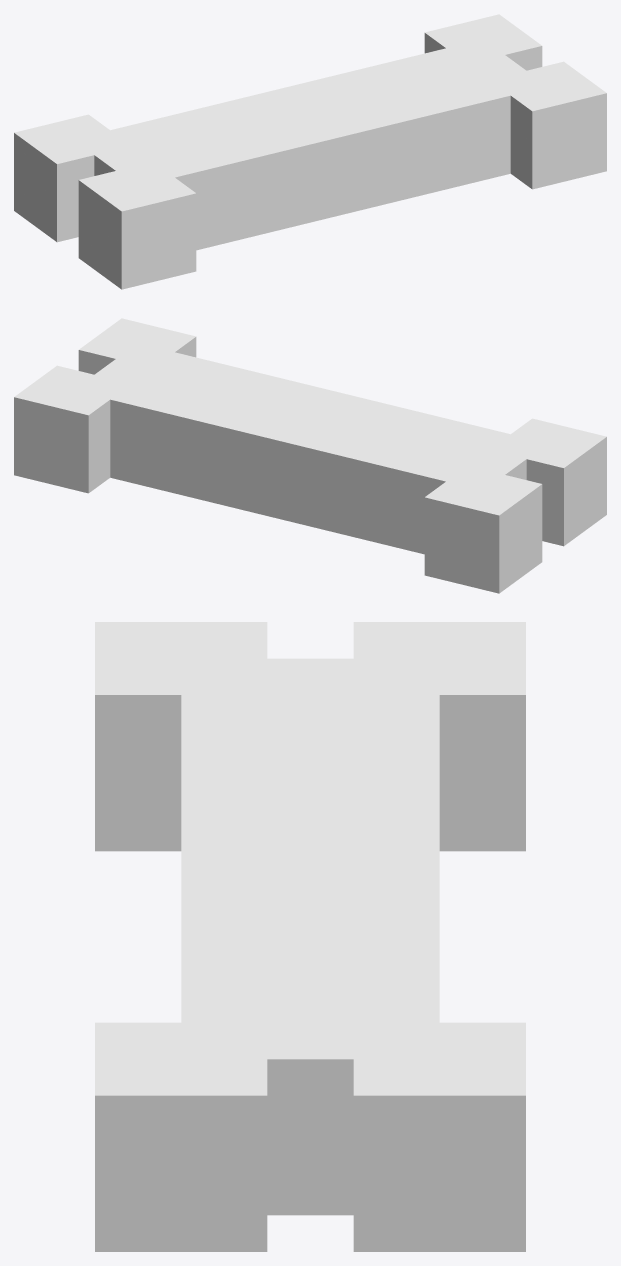
File: bones.obj
The picture shows the model from 3 angles, top to bottom: view 1: azimuth 30°, elevation 25°; view 2: azimuth 150°, elevation 25°; view 3: azimuth 270°, elevation 25°; orthographic projection. The views are drawn at different scales.
Bounding box in the file's own units: 13 × 2 × 5.
1 material, 1 textured.
